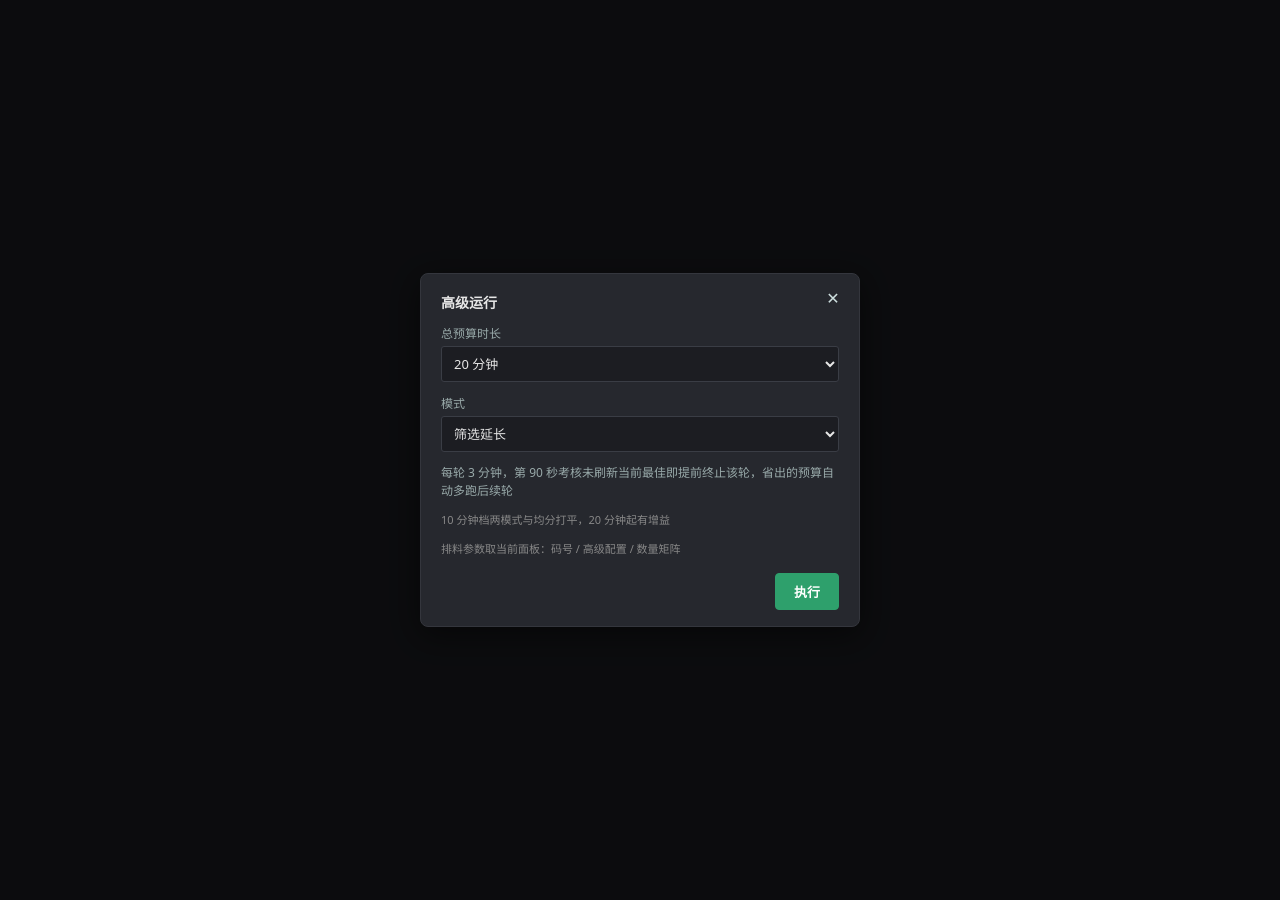
Test: StrategyRunModal (US-005) › 模式说明行随切换（race → SE）
Expected: the text with test id "strategy-mode-desc" shows "第 90 秒考核未刷新当前最佳即提前终止", top-left (441, 464), bottom-right (834, 499)
Select "筛选延长" in the dropdown with test id "strategy-mode" at (640, 434), box top-left (441, 416), bottom-right (839, 452)
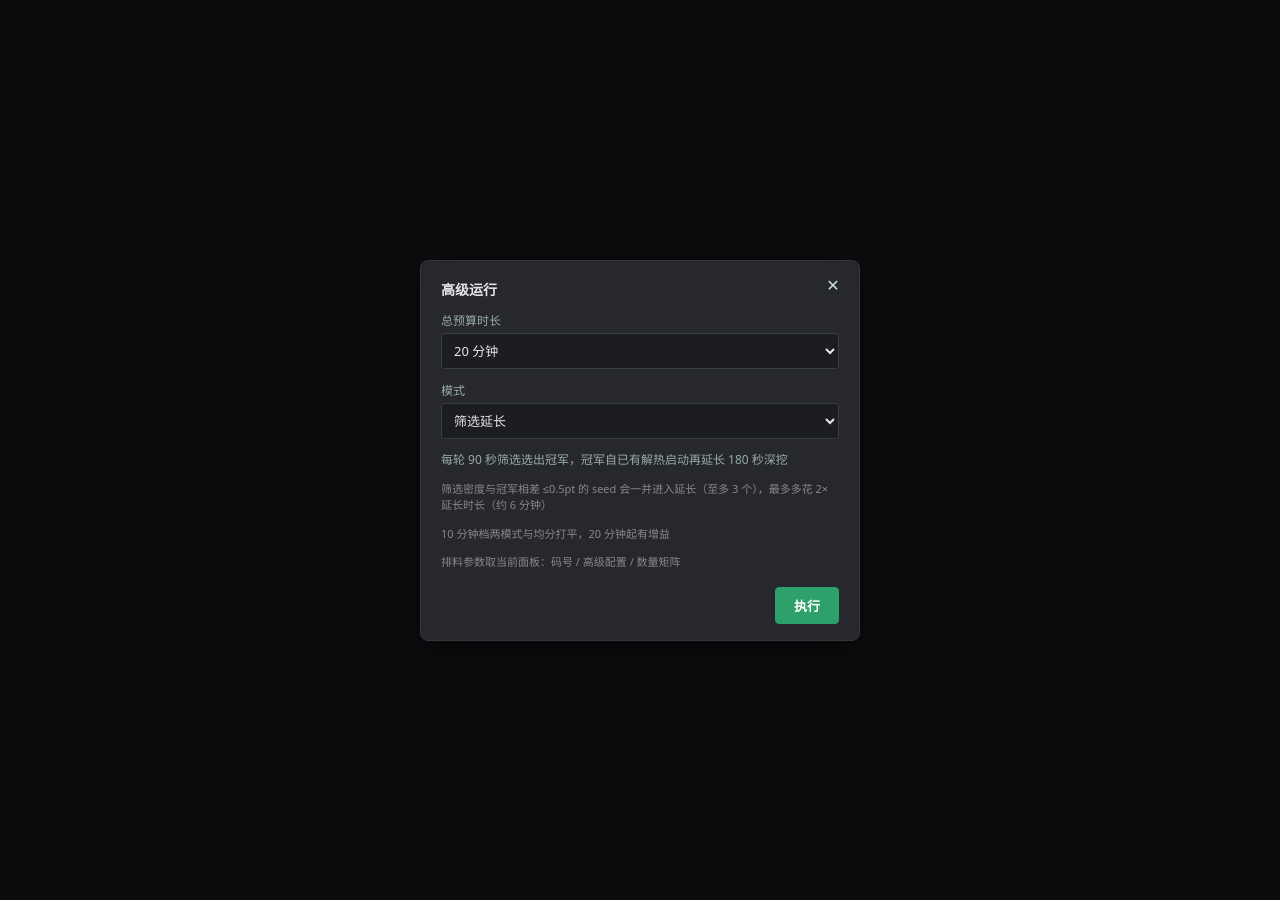
Now the text with test id "strategy-mode-desc" shows "冠军自已有解热启动再延长 180 秒深挖", box top-left (441, 450), bottom-right (788, 468)
